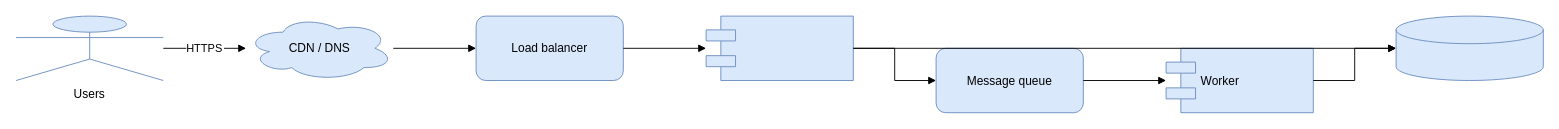
Some shapes in this 1559 by 129 pixel diagram are drawn without their labels. The centre of each missing label's shape, as x and y in pixels:
API service: [779,47]
Managed database: [1469,47]
